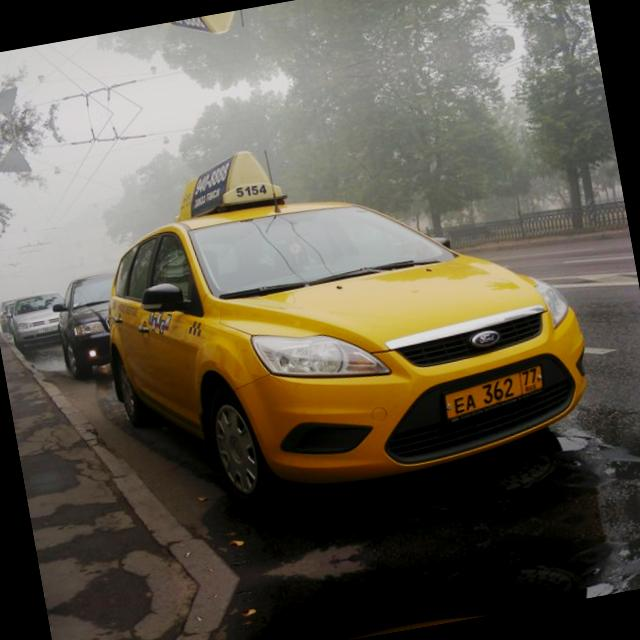taxi: (436, 359, 551, 427)
